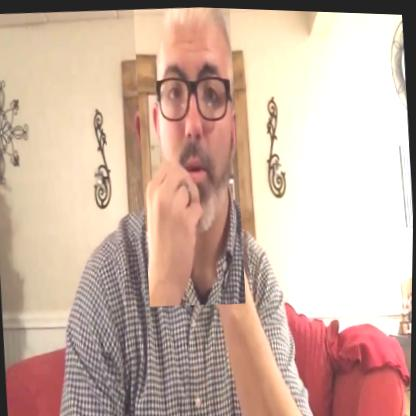Food: (130, 4, 250, 308)
